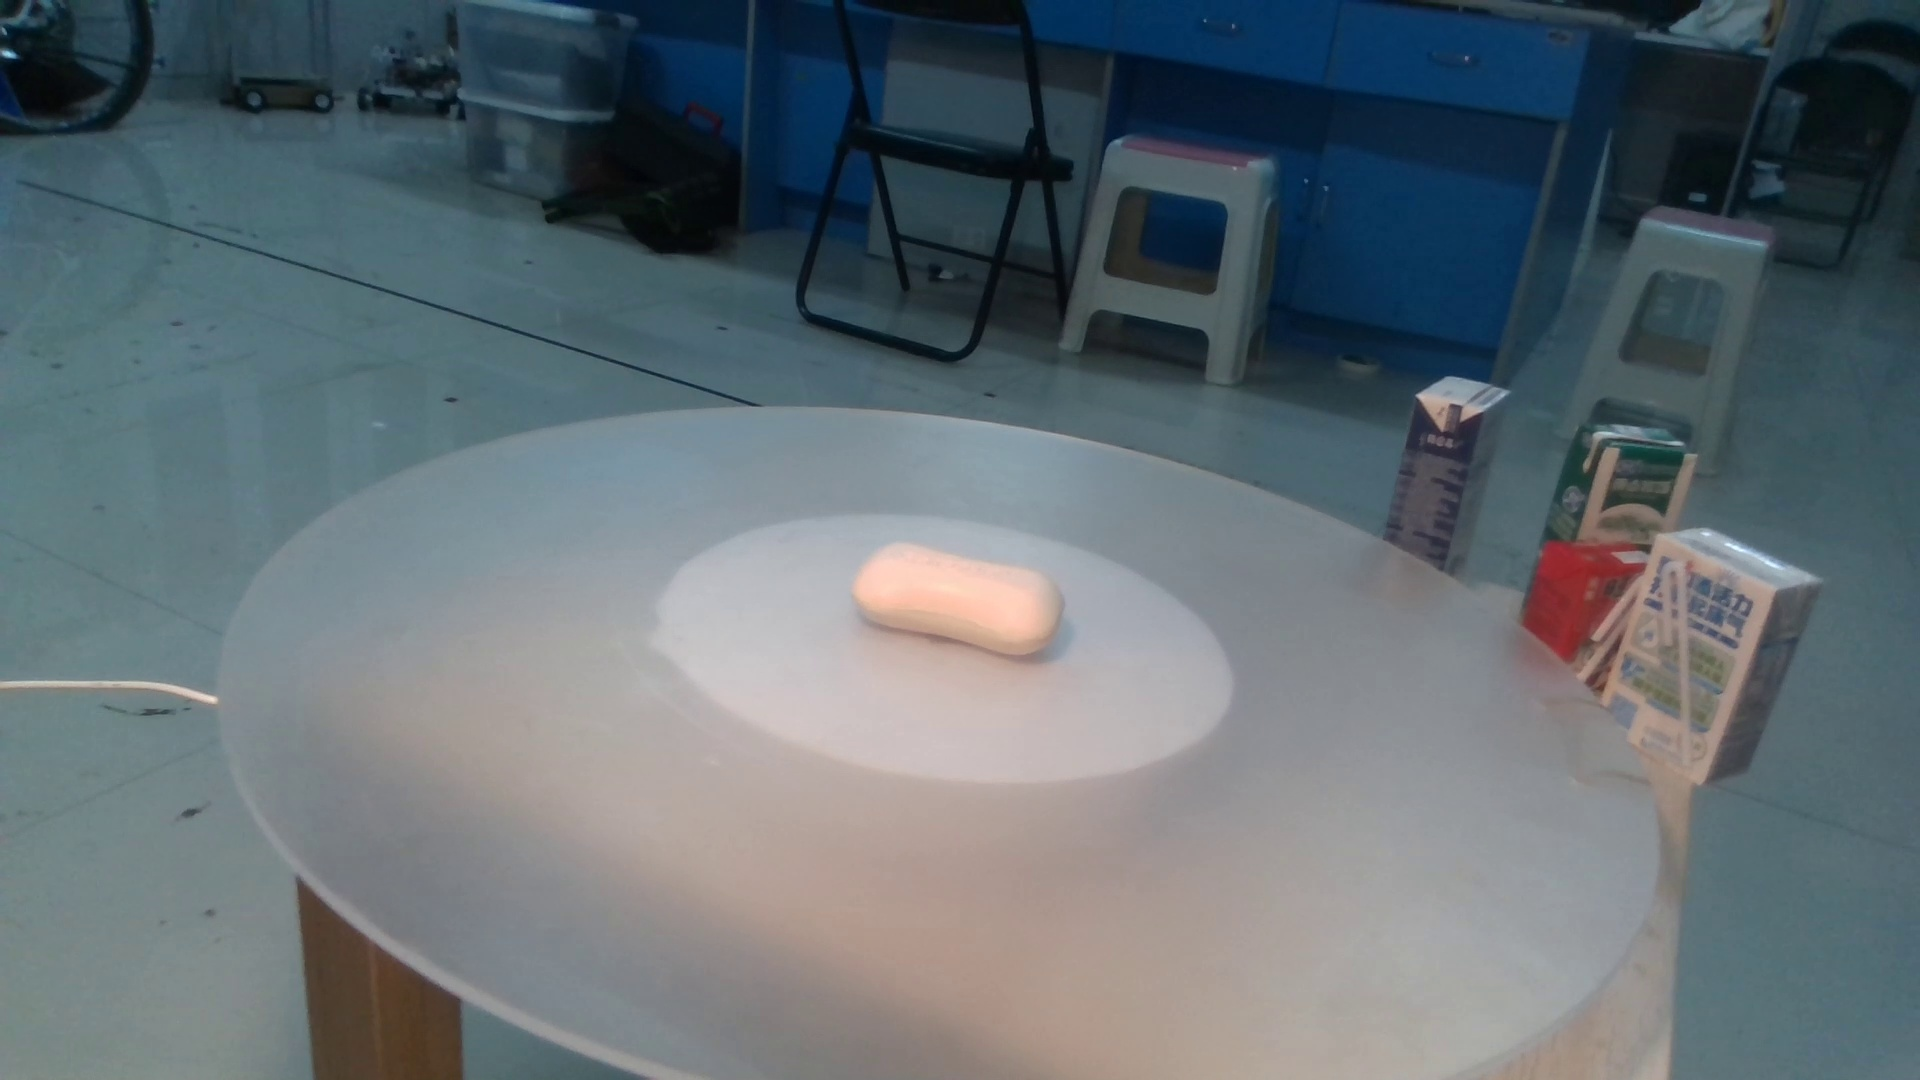CA003_1: (837, 500, 1100, 676)
